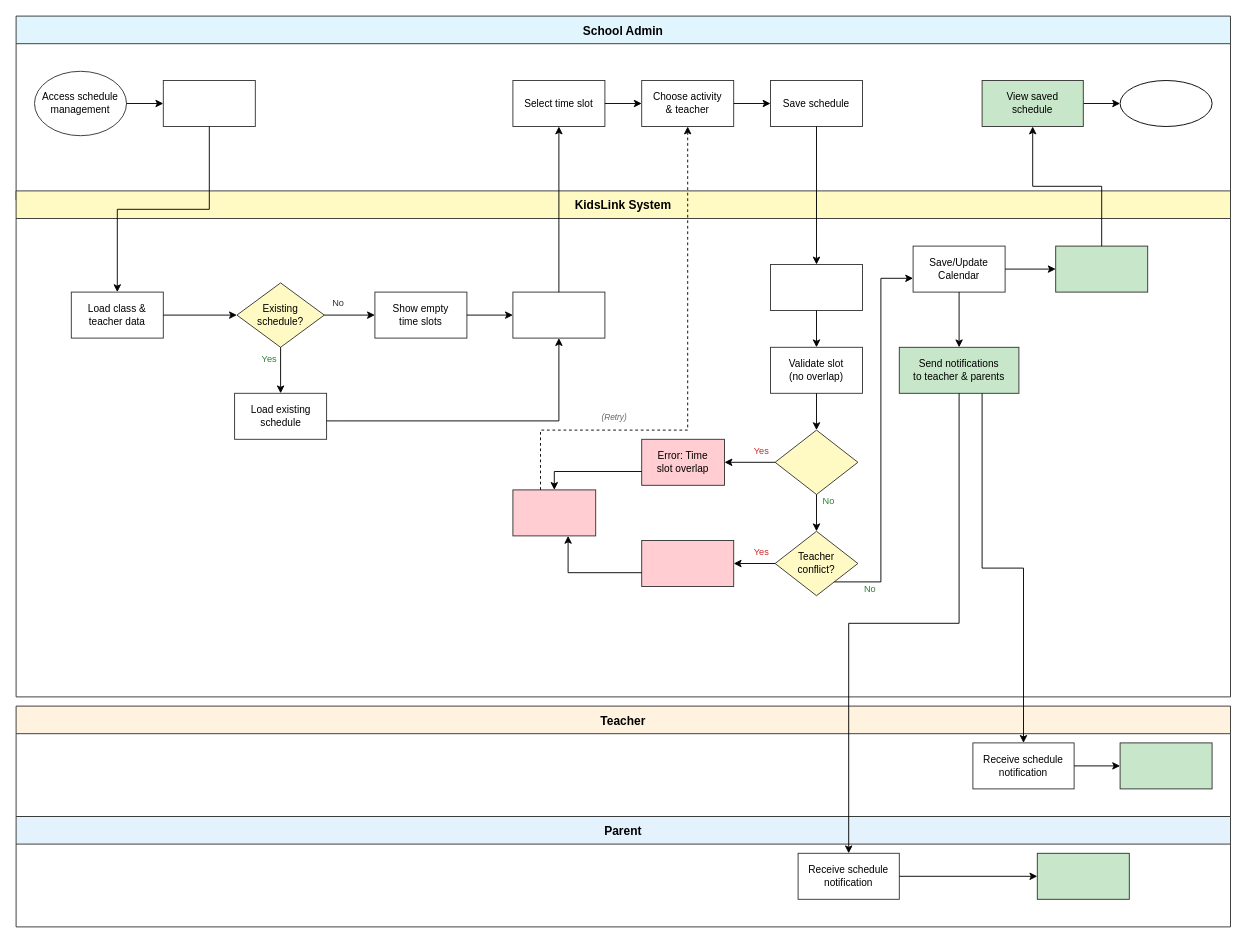
This 1247x943 diagram has some shape labels left out. The centre of each missing label's shape, as x and y in pixels:
"End" goes at (x=1165, y=103).
"Error: Teacher has another class" goes at (x=687, y=563).
"Load slots & activities" goes at (x=558, y=314).
"Overlap?" goes at (x=816, y=461).
"Receive schedule data" goes at (x=816, y=287).
"Return saved schedule" goes at (x=1101, y=268).
"Select class & date" goes at (x=208, y=103).
"Show error message" goes at (x=554, y=512).
"View child schedule" goes at (x=1082, y=875).
"View class schedule" goes at (x=1165, y=765).
